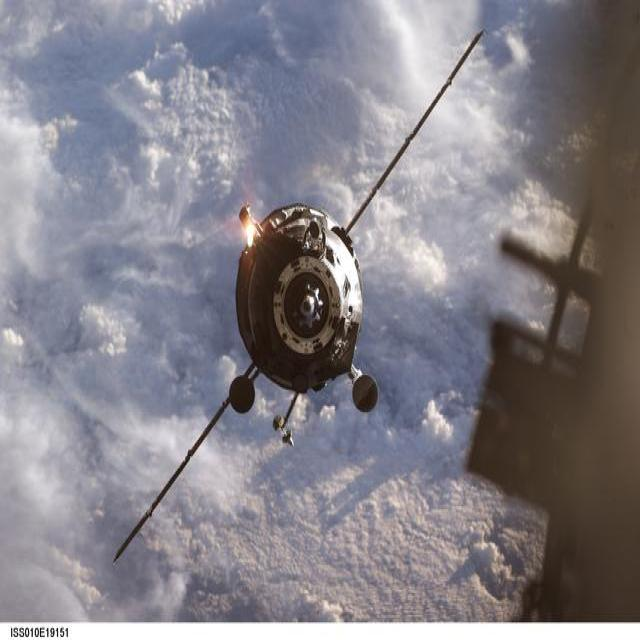satellite: (115, 32, 482, 562)
